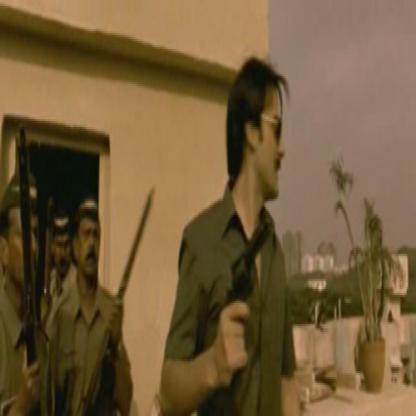Guns: (78, 184, 155, 414), (224, 203, 271, 356), (12, 113, 36, 385), (40, 194, 53, 356)
